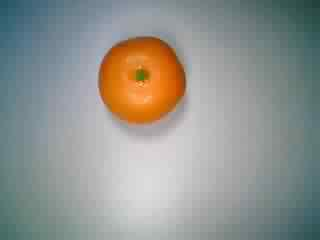orange: (95, 31, 190, 133)
